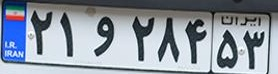character: (182, 14, 209, 68), (127, 13, 156, 63), (156, 13, 182, 66), (88, 12, 115, 62), (29, 6, 54, 59), (55, 9, 78, 62), (214, 28, 240, 70), (242, 29, 266, 71)
